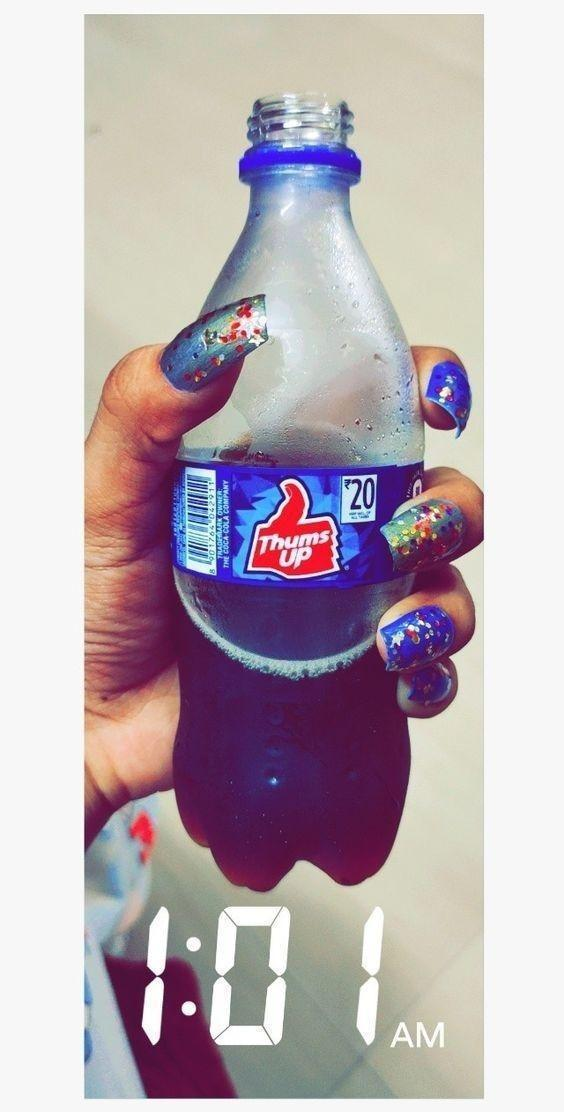bottle-plastic: (166, 86, 436, 905)
